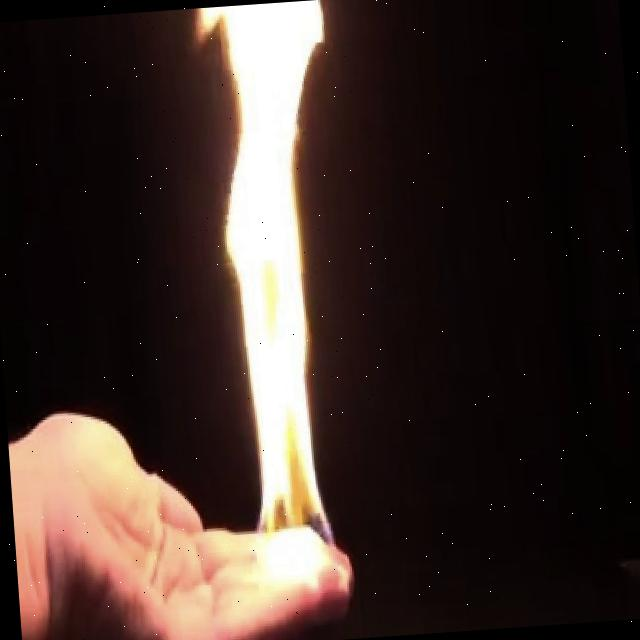fire: (188, 1, 367, 596)
